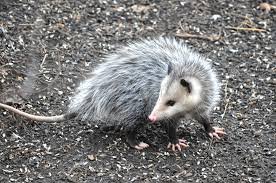opossum: (0, 36, 227, 151)
